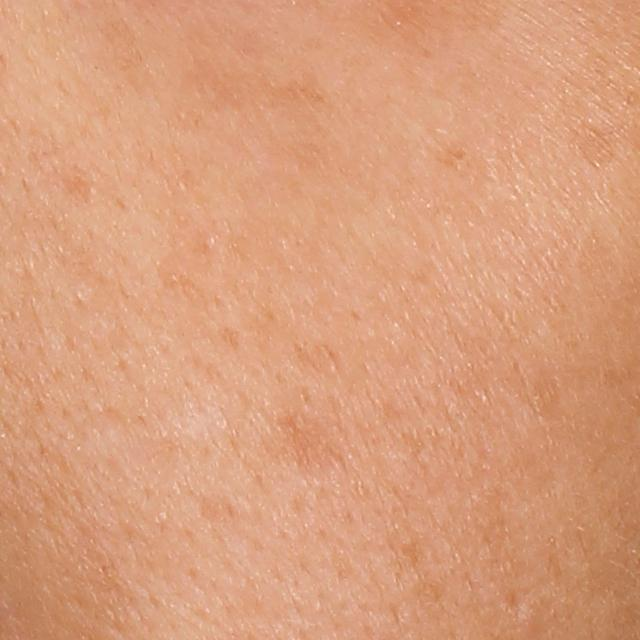melasma: (182, 16, 336, 119), (263, 399, 362, 487), (428, 130, 476, 177)
